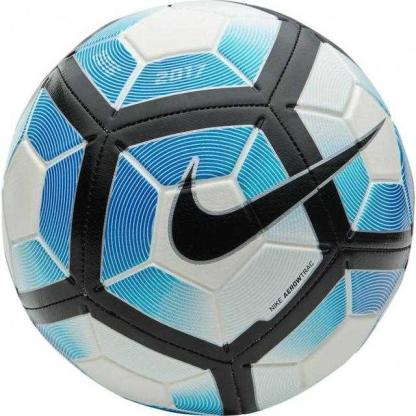ball: (1, 1, 416, 416)
